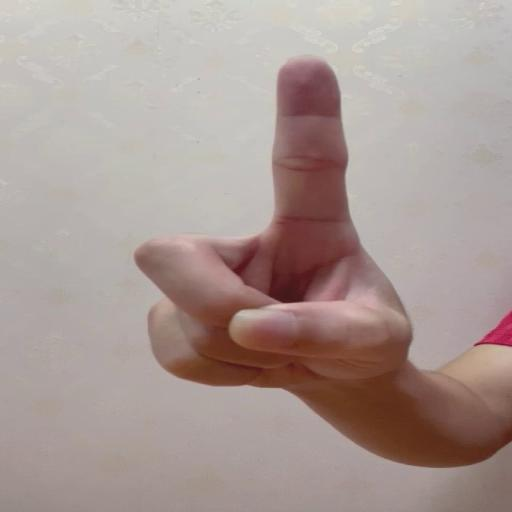point: (131, 52, 370, 392)
